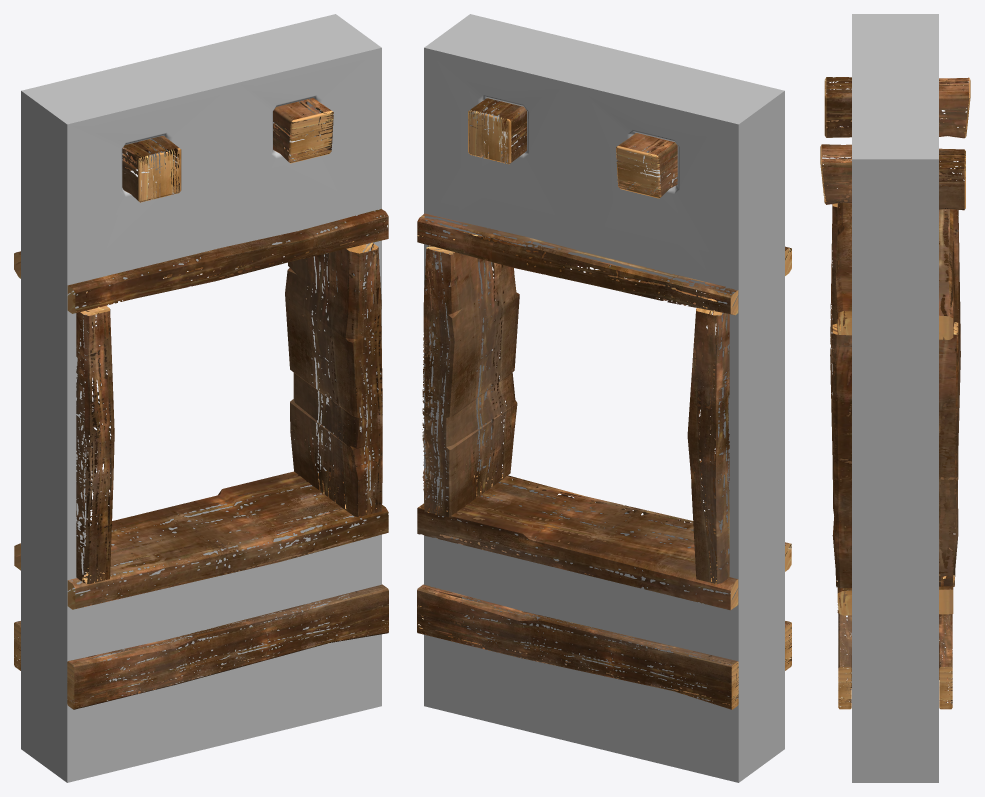
The picture shows the model from 3 angles, left to right: view 1: azimuth 30°, elevation 25°; view 2: azimuth 150°, elevation 25°; view 3: azimuth 270°, elevation 25°; orthographic projection. The views are drawn at different scales.
Parts seen in each view (by area): view 1: SM_BB_T4_Wall_Windowframe_Narrow_LOD0; view 2: SM_BB_T4_Wall_Windowframe_Narrow_LOD0; view 3: SM_BB_T4_Wall_Windowframe_Narrow_LOD0.
Boxes of the visible parts, box(x1,y1,x2,y2) form: SM_BB_T4_Wall_Windowframe_Narrow_LOD0: box(14, 14, 388, 782); SM_BB_T4_Wall_Windowframe_Narrow_LOD0: box(417, 14, 791, 782); SM_BB_T4_Wall_Windowframe_Narrow_LOD0: box(820, 14, 970, 782).
Bounding box in the file's own units: 1.5 × 3 × 0.6542.
